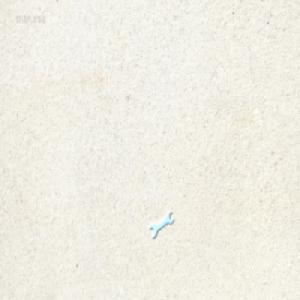Wrench: (150, 212, 174, 240)
